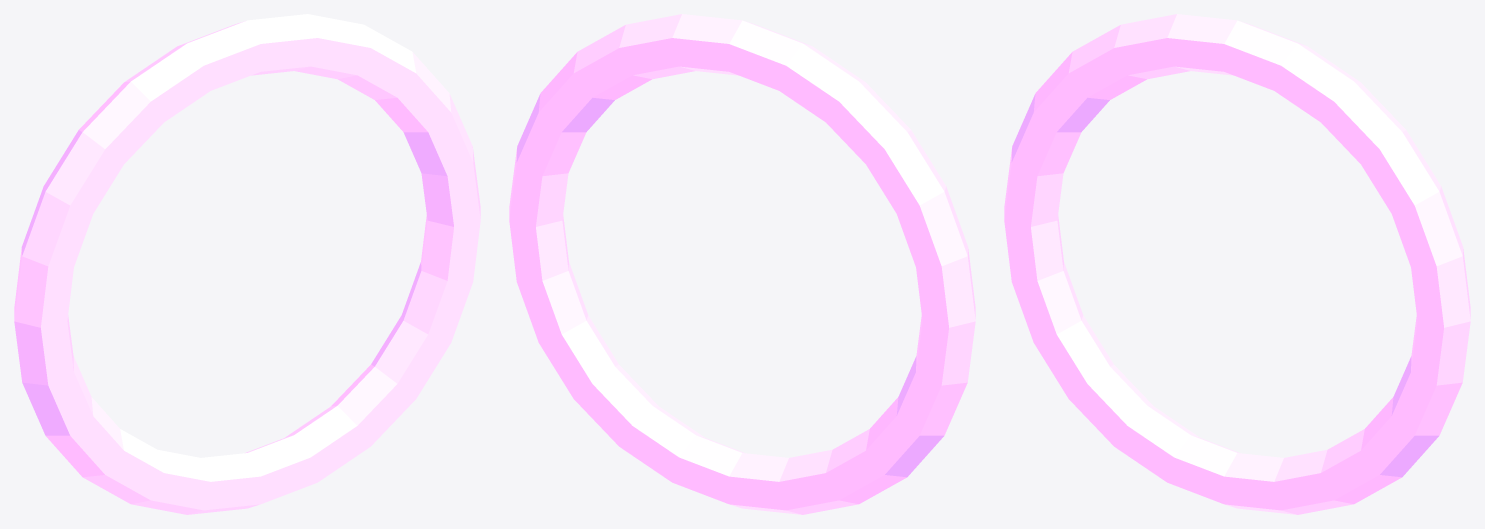
File: Портал.glb
3 renders of one model, left to right at view 1: azimuth 30°, elevation 25°; view 2: azimuth 150°, elevation 25°; view 3: azimuth 330°, elevation 25°, orthographic.
Visible parts, largest first — view 1: Портал; view 2: Портал; view 3: Портал.
Boxes of the visible parts, <box> form: Портал: <box>14,14,480,514</box>; Портал: <box>509,14,975,514</box>; Портал: <box>1004,14,1470,514</box>.
Size of the model in its own units: 3.16 by 3.16 by 0.3118.
